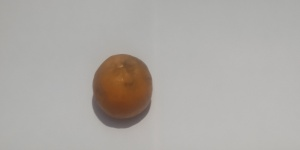BAD: (91, 54, 158, 125)
